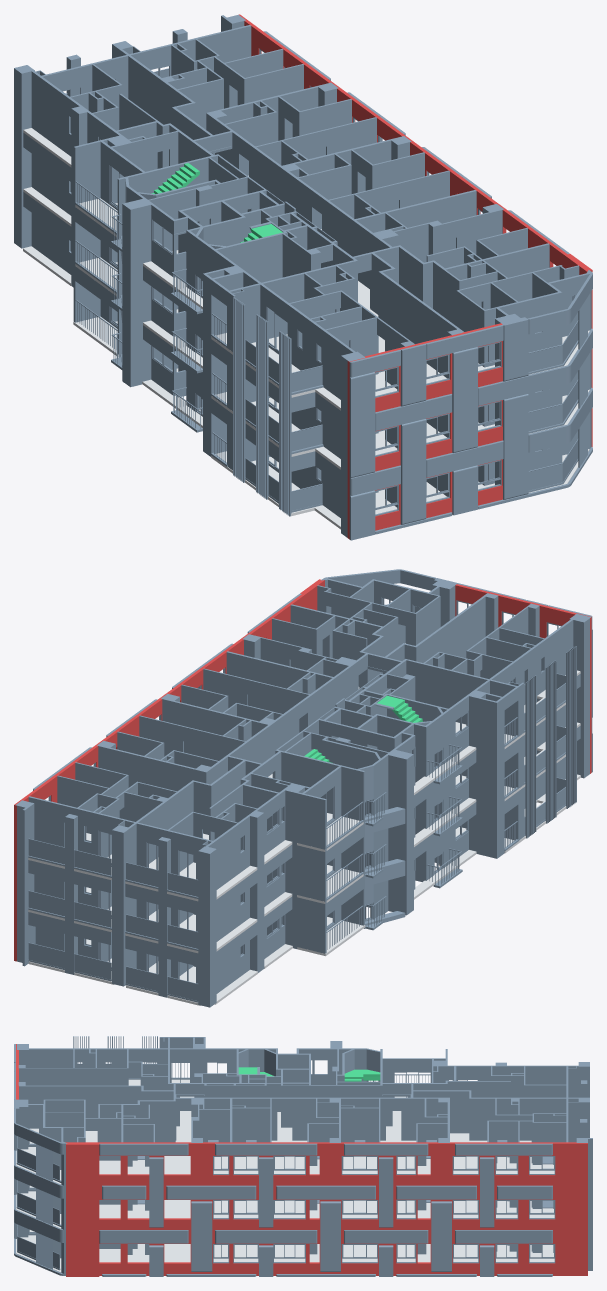
Rendered from tower.glb.
3 views of the same model, one above another, from view 1: azimuth 30°, elevation 25°; view 2: azimuth 150°, elevation 25°; view 3: azimuth 270°, elevation 25° (orthographic). The views are drawn at different scales.
Size of the model in its own units: 17.92 by 10.47 by 40.45.
